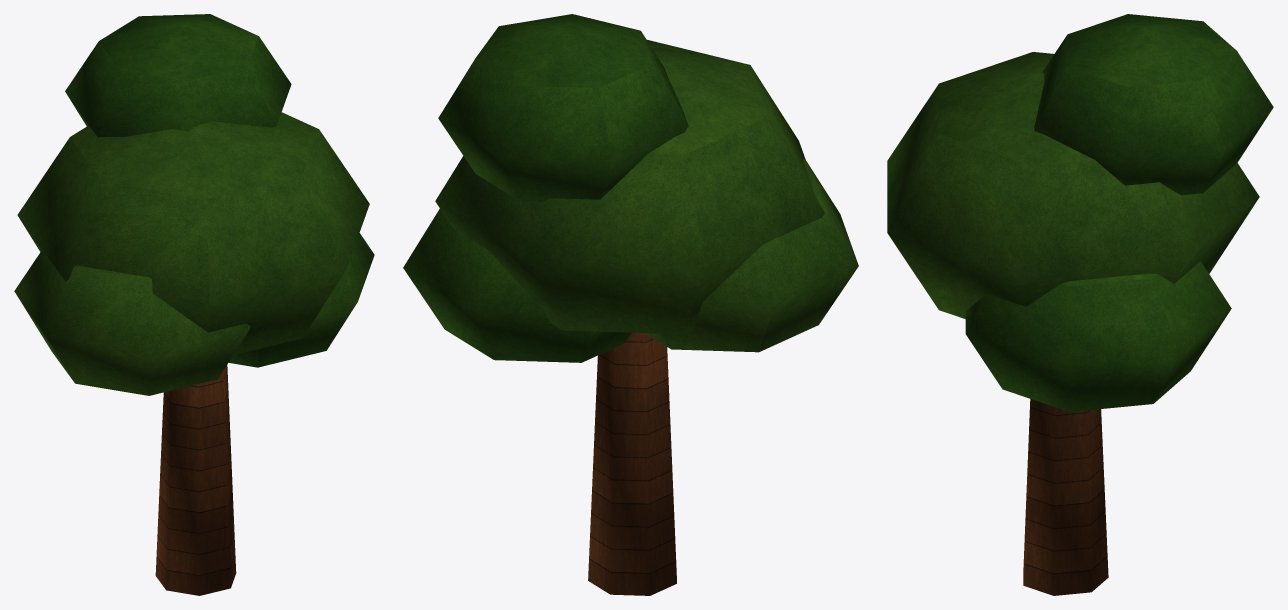
Rendered from tree_jati.glb.
The picture shows the model from 3 angles, left to right: view 1: azimuth 30°, elevation 25°; view 2: azimuth 150°, elevation 25°; view 3: azimuth 270°, elevation 25°; orthographic projection. The views are drawn at different scales.
Visible parts, largest first — view 1: tree_jati; view 2: tree_jati; view 3: tree_jati.
Part boxes in pixels (x1=…): tree_jati: x1=14, y1=14, x2=374, y2=595; tree_jati: x1=403, y1=14, x2=858, y2=595; tree_jati: x1=887, y1=14, x2=1273, y2=595.
Size of the model in its own units: 1.57 by 2.21 by 1.38.
3 materials, 3 textured.
